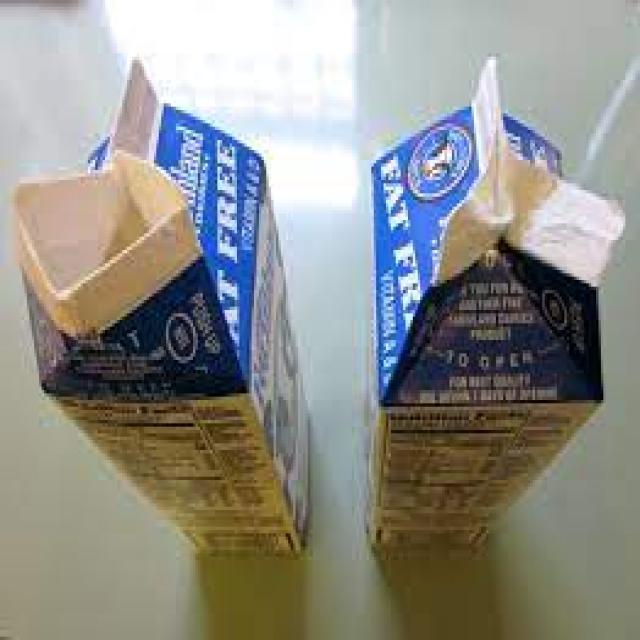cardboard: (16, 63, 322, 562), (365, 55, 608, 569)
